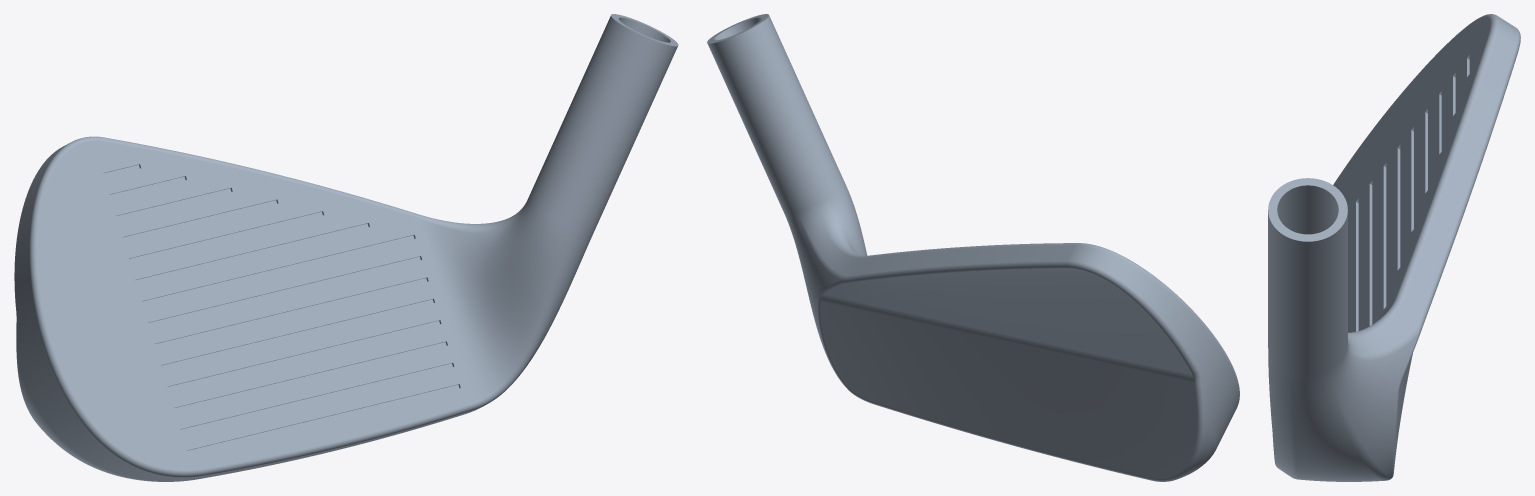
Rendered from iron_blade_7.obj.
3 views of the same model, side by side, from view 1: azimuth 30°, elevation 25°; view 2: azimuth 150°, elevation 25°; view 3: azimuth 270°, elevation 25° (orthographic). The views are drawn at different scales.
Visible parts, largest first — view 1: 1; view 2: 1; view 3: 1.
Boxes of the visible parts, <box> form: 1: <box>14,14,678,481</box>; 1: <box>707,14,1239,481</box>; 1: <box>1268,14,1520,481</box>.
Bounding box in the file's own units: 114 × 64.79 × 38.67.
